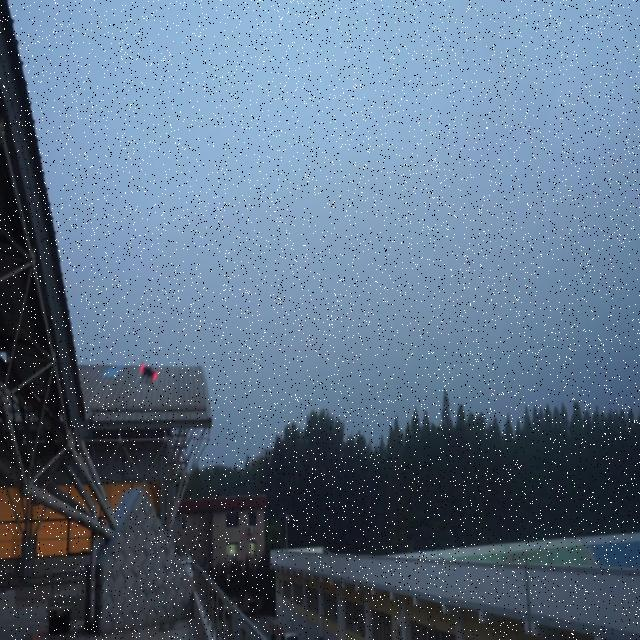UAV: (139, 363, 159, 384)
